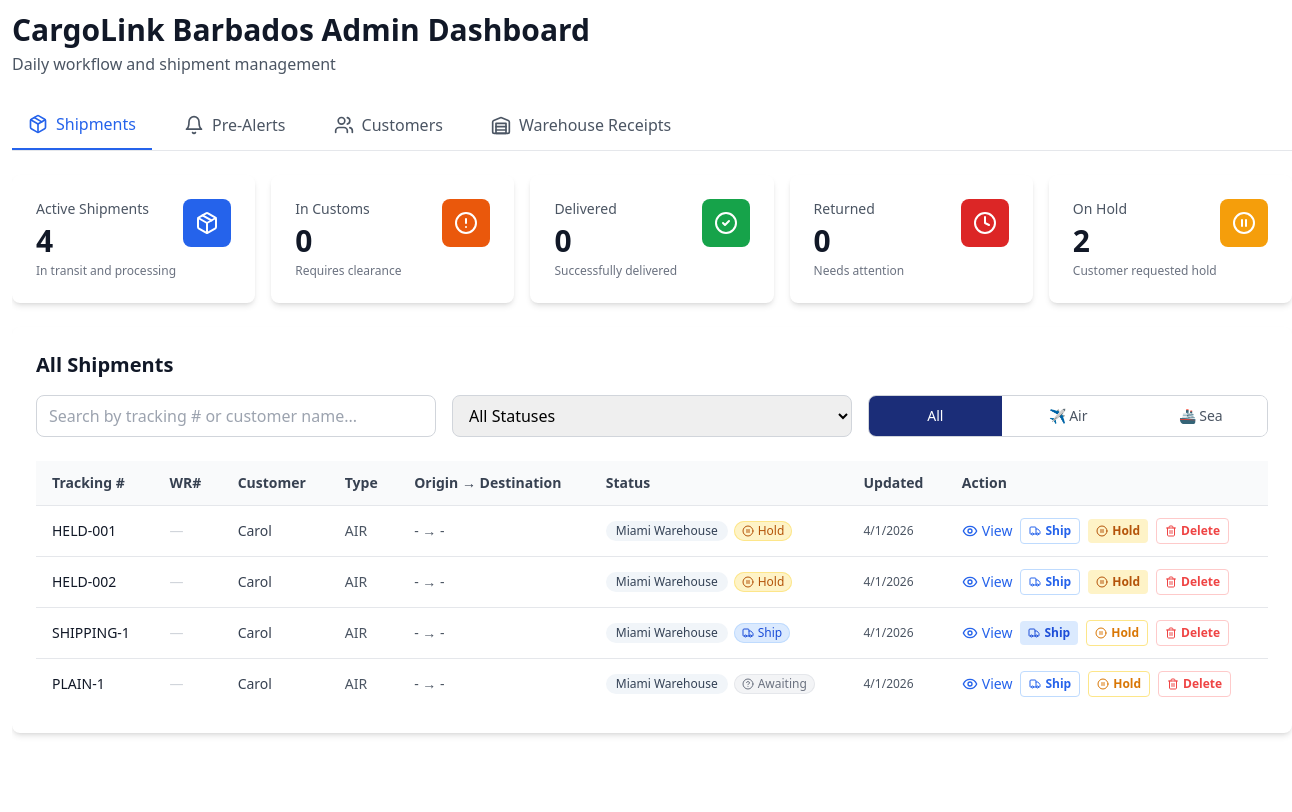
Test: AdminDashboard — On Hold metric card › filters the table to held shipments when On Hold is clicked
Click the text "On Hold": point(1100, 208) [1073, 199, 1127, 218]
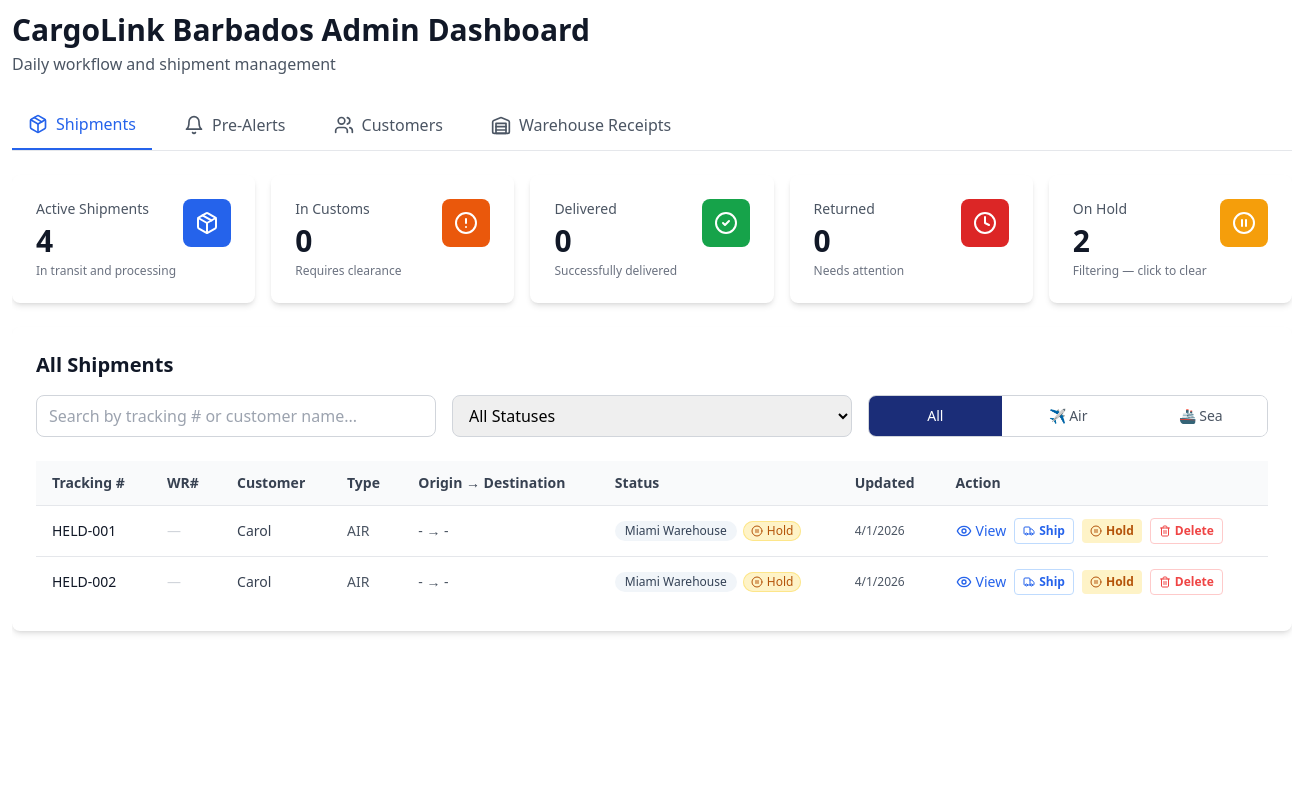
Expected: the text "HELD-001" is shown, [52, 521, 116, 540]
Now the text "SHIPPING-1" is gone
Now the text "PLAIN-1" is gone
